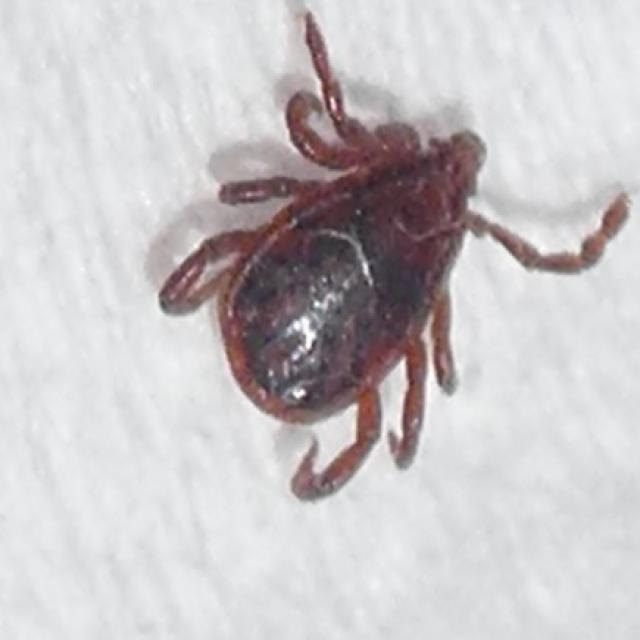Rhipicephalus Sanguineus-M: (157, 14, 625, 504)
